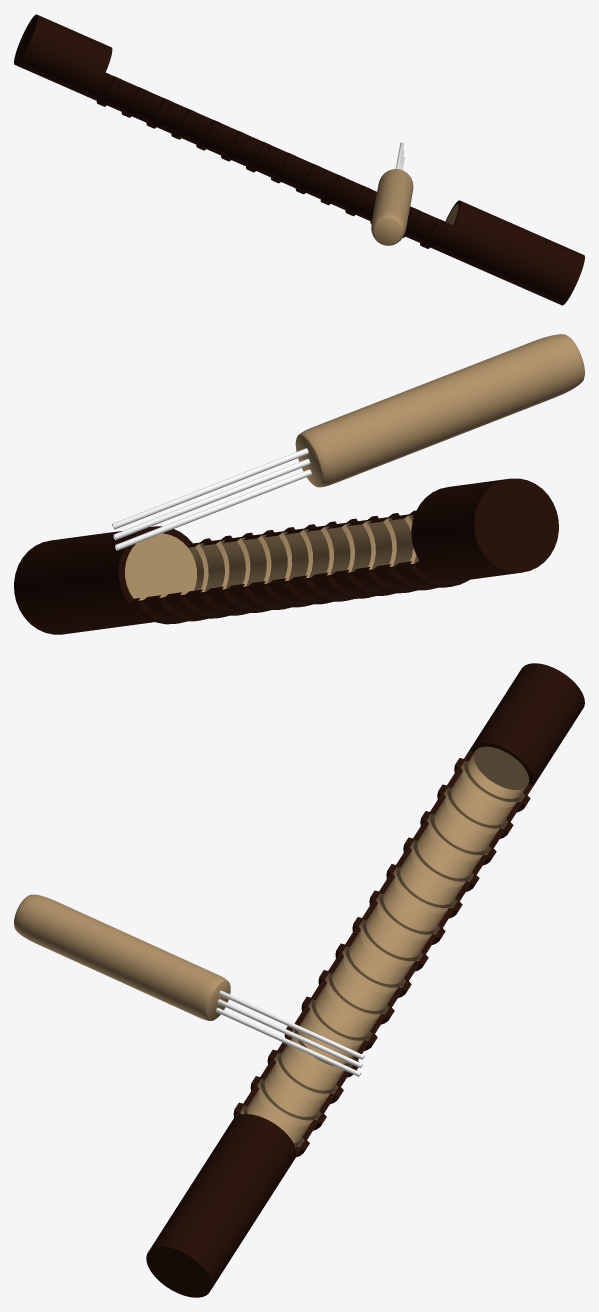
The model's file is Guaracharaca.fbx.
3 renders of one model, top to bottom at view 1: azimuth 30°, elevation 25°; view 2: azimuth 150°, elevation 25°; view 3: azimuth 270°, elevation 25°, orthographic. The views are drawn at different scales.
Parts seen in each view (by area): view 1: Cylinder, Cylinder.001; view 2: Cylinder, Cylinder.001; view 3: Cylinder, Cylinder.001.
Boxes of the visible parts, x1,y1,x2,y2 form: Cylinder: (14, 14, 584, 305); Cylinder.001: (371, 142, 413, 245); Cylinder: (14, 478, 558, 634); Cylinder.001: (112, 334, 584, 550); Cylinder: (146, 663, 584, 1297); Cylinder.001: (14, 894, 364, 1076).
Bounding box in the file's own units: 1832 × 1131 × 1549.
